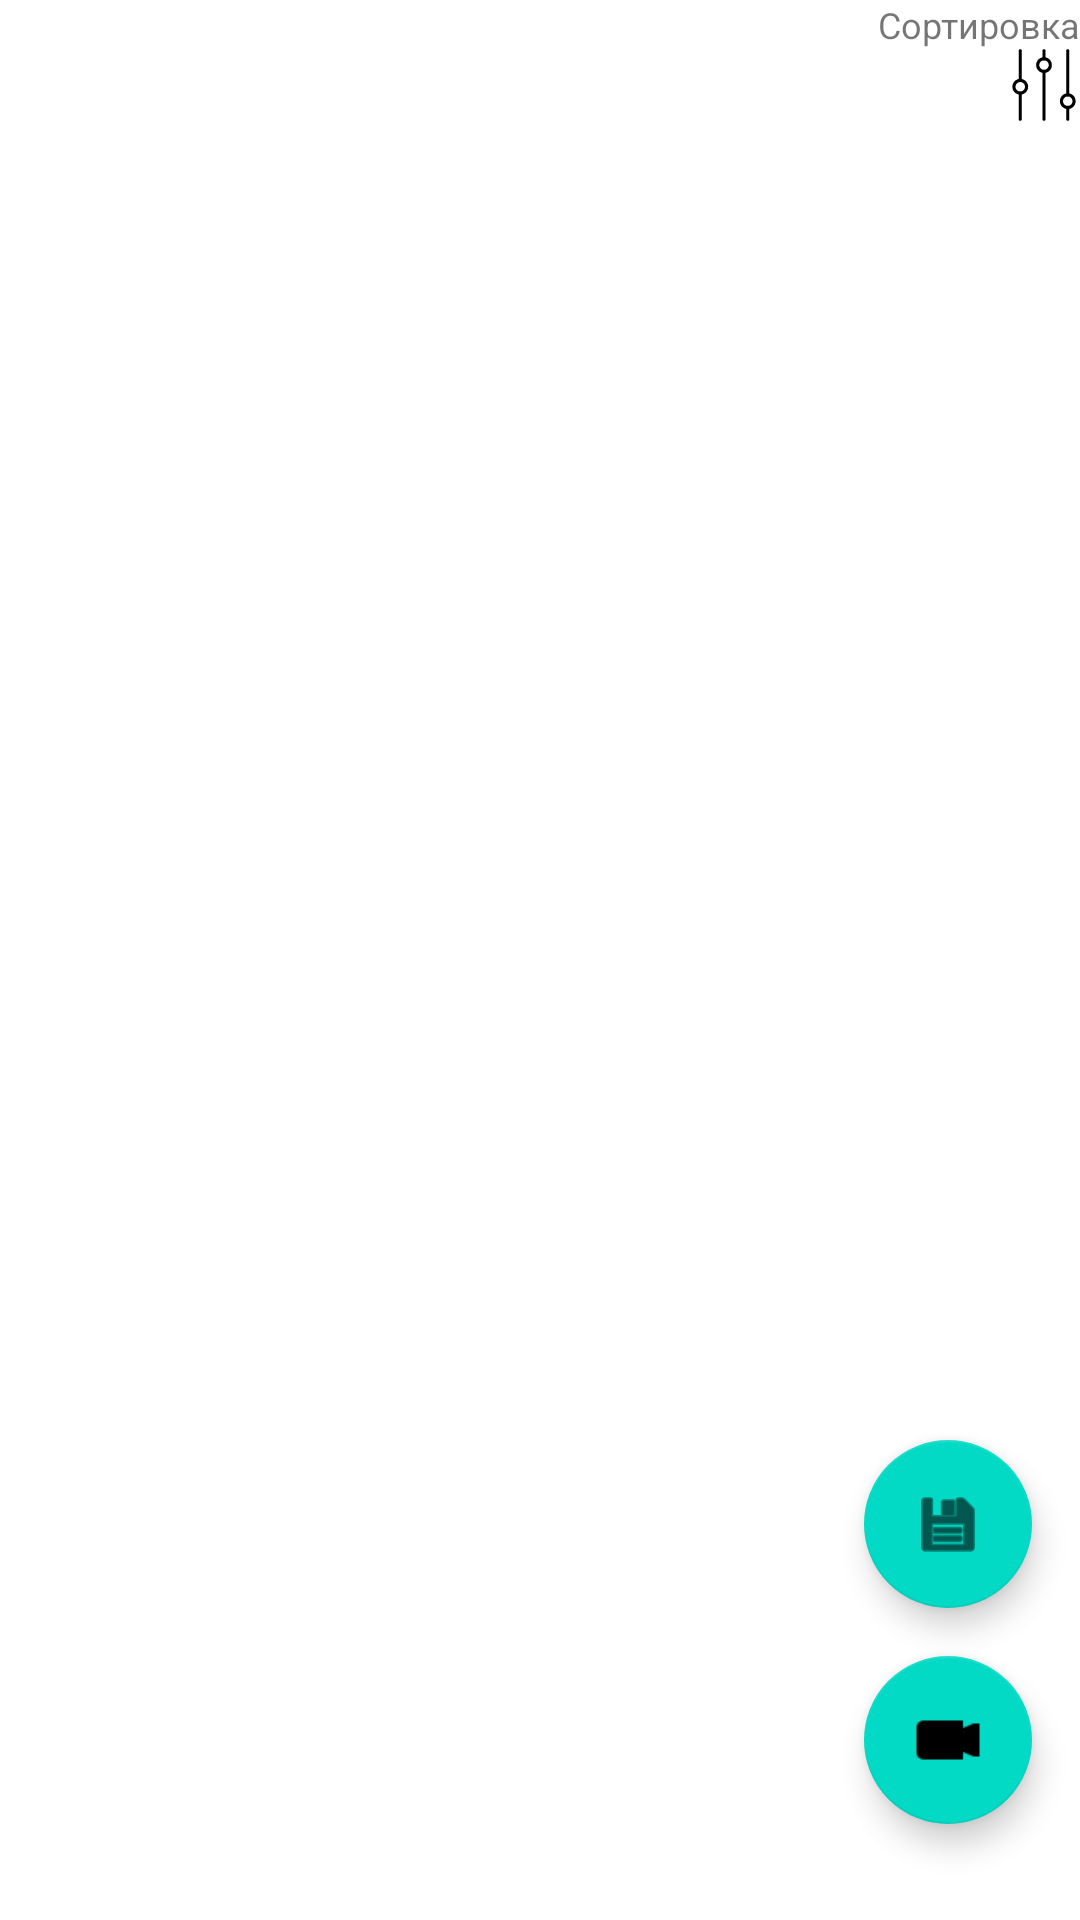

Screen size 1080px x 1920px. Icon name, then its box in pixels as bbox=(x1, y1, x2, y2):
save: bbox=(864, 1440, 1032, 1608)
